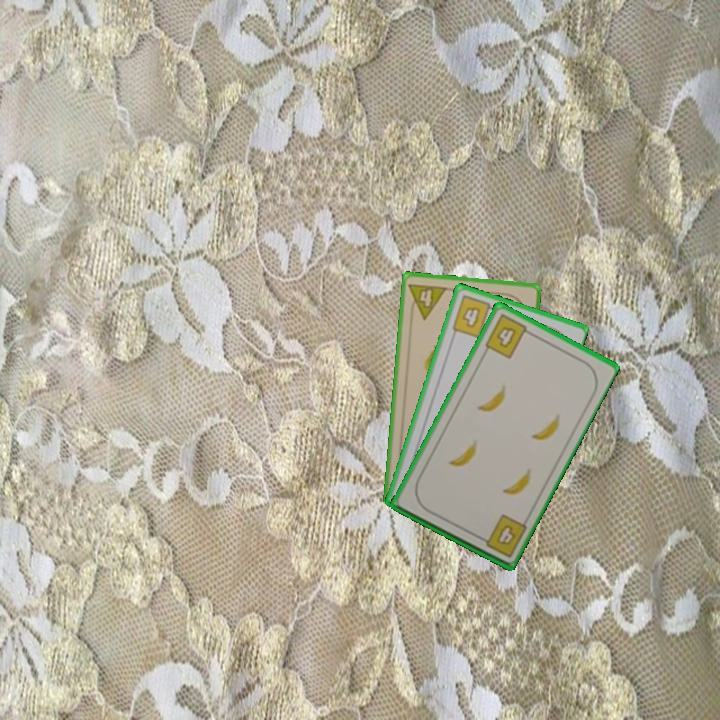4b: (481, 310, 535, 362), (474, 510, 529, 560), (448, 292, 499, 341)
4p: (405, 279, 450, 322)
